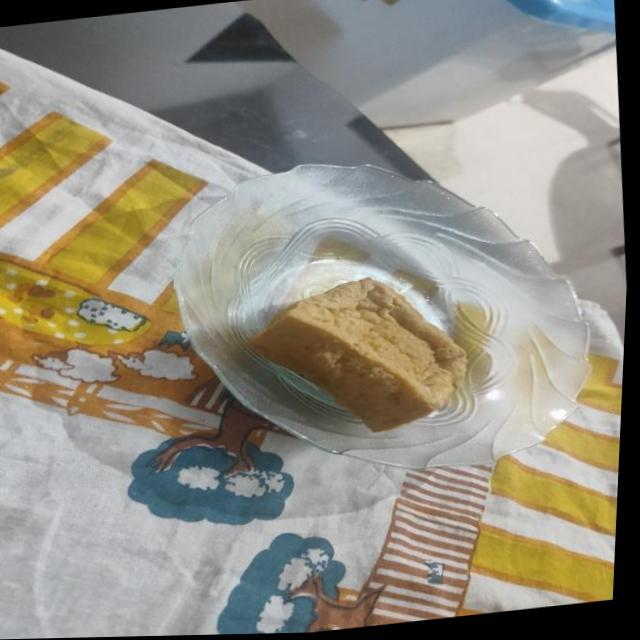tahu_goreng: (248, 276, 466, 432)
